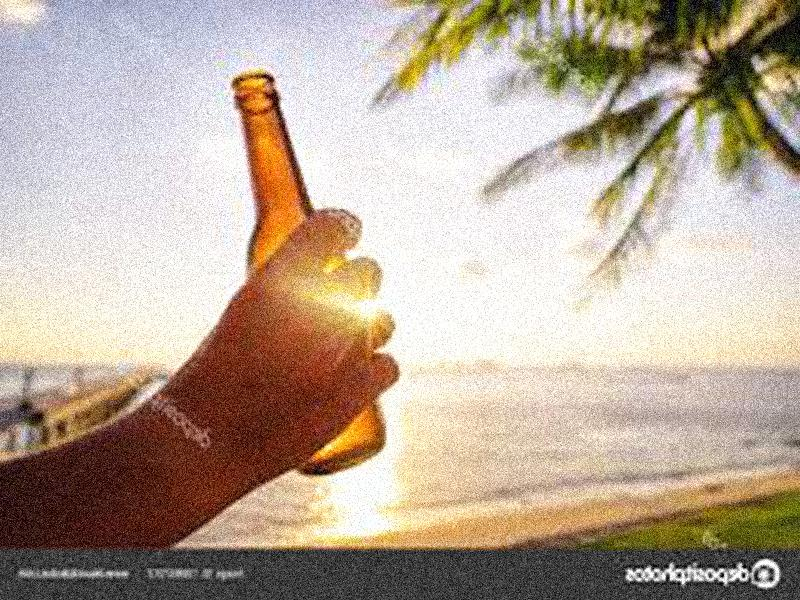Beer: (227, 72, 382, 478)
